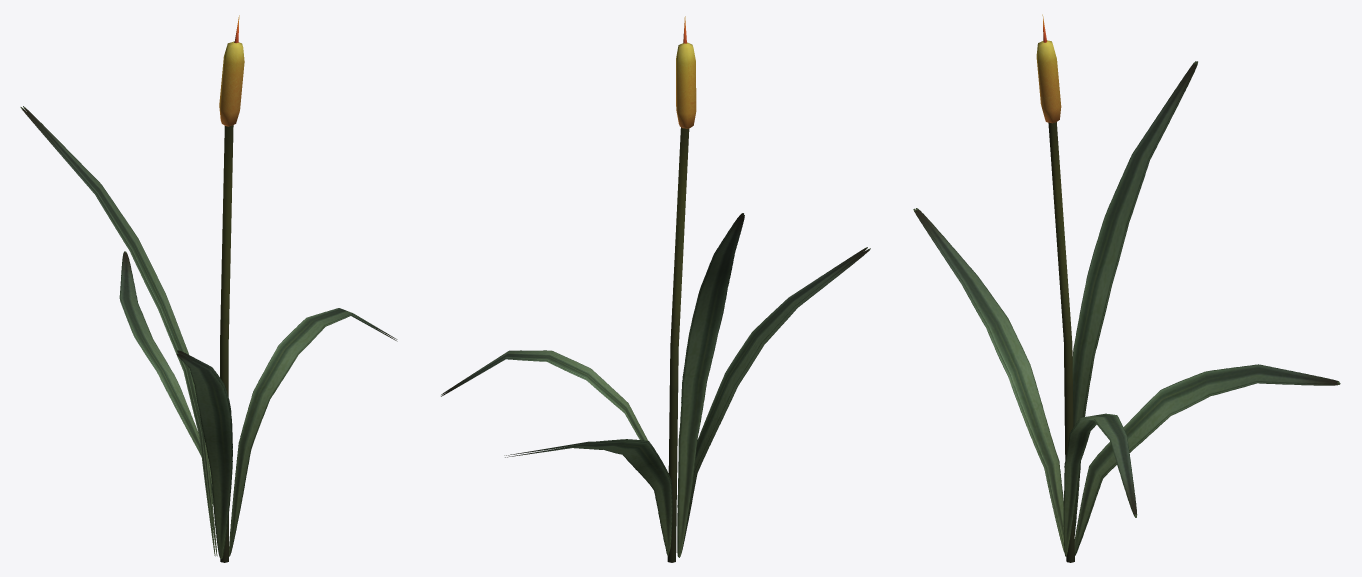
The model's file is flower_s00.fbx.
3 renders of one model, left to right at view 1: azimuth 30°, elevation 25°; view 2: azimuth 150°, elevation 25°; view 3: azimuth 270°, elevation 25°, orthographic. The views are drawn at different scales.
Visible parts, largest first — view 1: flower_s00; view 2: flower_s00; view 3: flower_s00.
Boxes of the visible parts, bbox=[...] form: flower_s00: bbox=[20, 15, 397, 562]; flower_s00: bbox=[441, 16, 870, 562]; flower_s00: bbox=[913, 14, 1340, 562].
Bounding box in the file's own units: 26.53 × 39.48 × 28.79.
